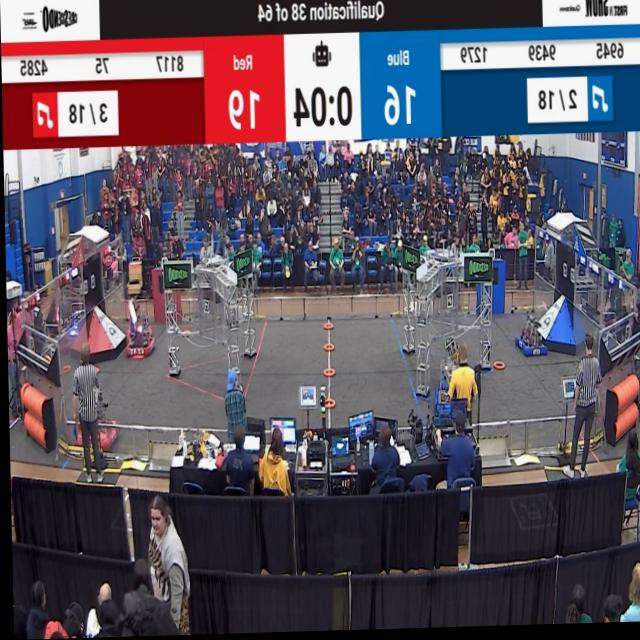Robot: (71, 356, 120, 452), (119, 300, 152, 364), (511, 311, 551, 362), (121, 282, 155, 342), (422, 372, 450, 420), (430, 345, 448, 402)
